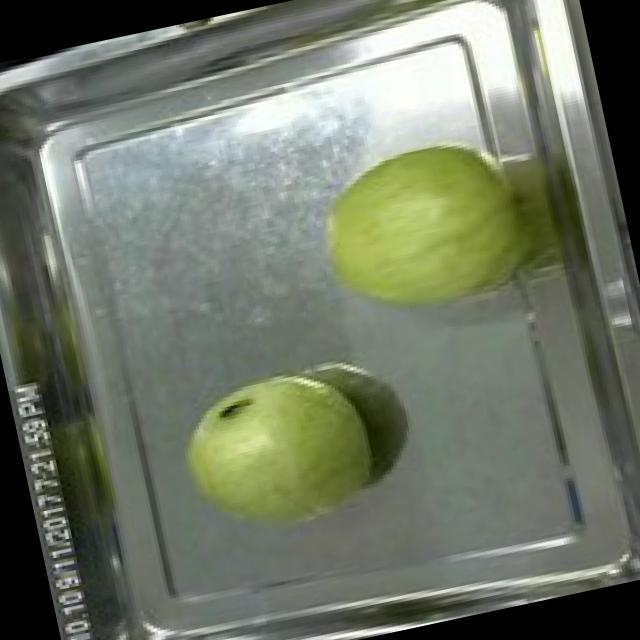Fruit: (290, 116, 548, 345), (157, 344, 396, 562)
